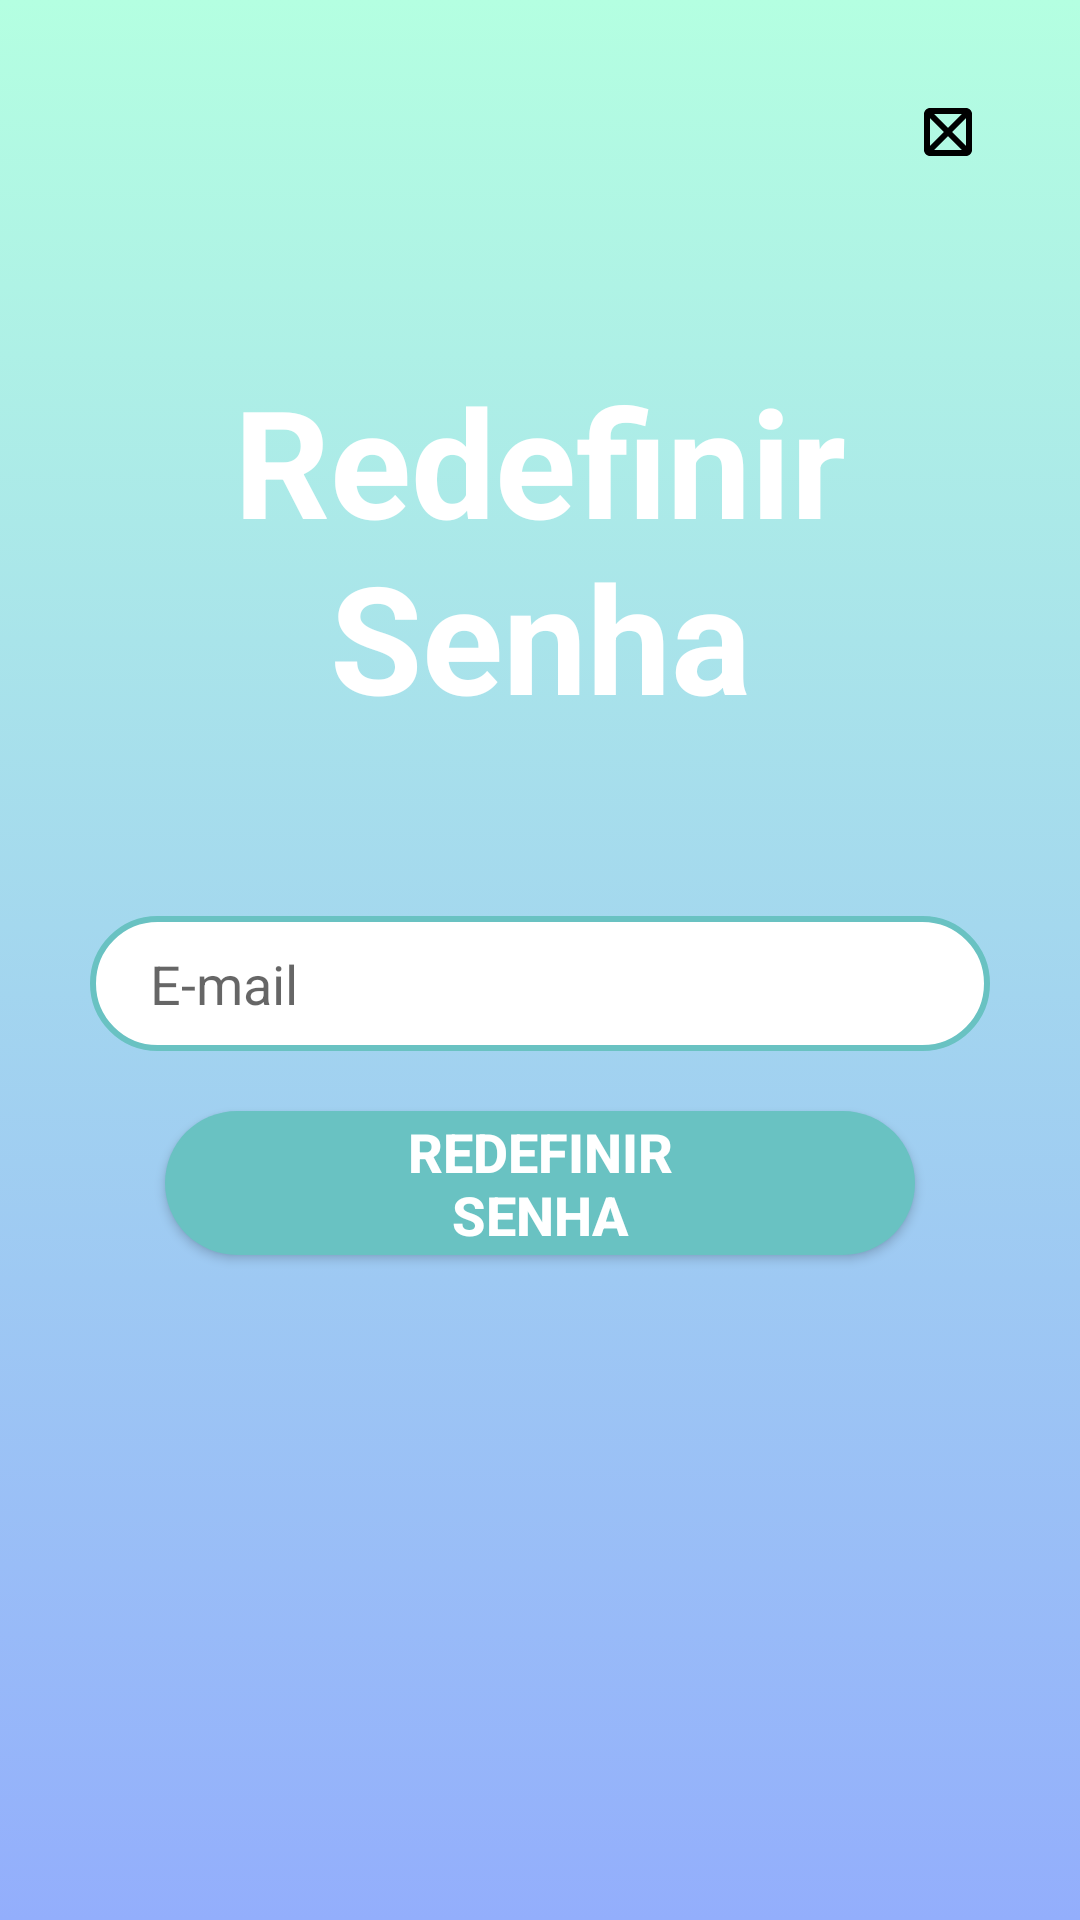

Named icons in this screenshot (1080px x 1920px) and their bounding boxes, (x1, y1, x2, y2):
close: (924, 108, 972, 156)
